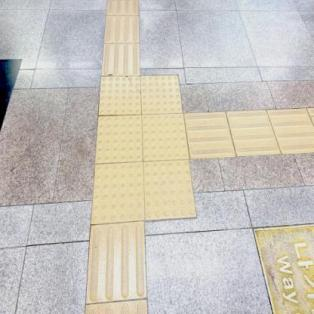Podoctatil: (78, 49, 208, 246), (193, 109, 314, 161), (86, 224, 146, 314), (102, 0, 140, 74)
